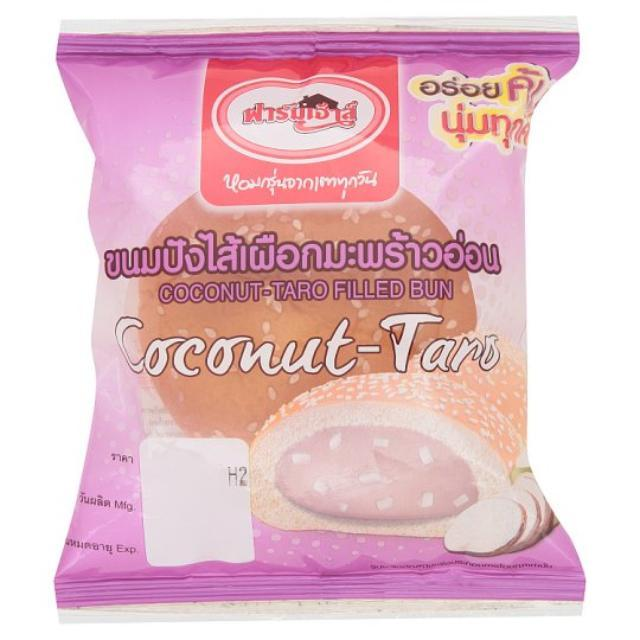Bolsa-de-plastico: (63, 40, 592, 610)
